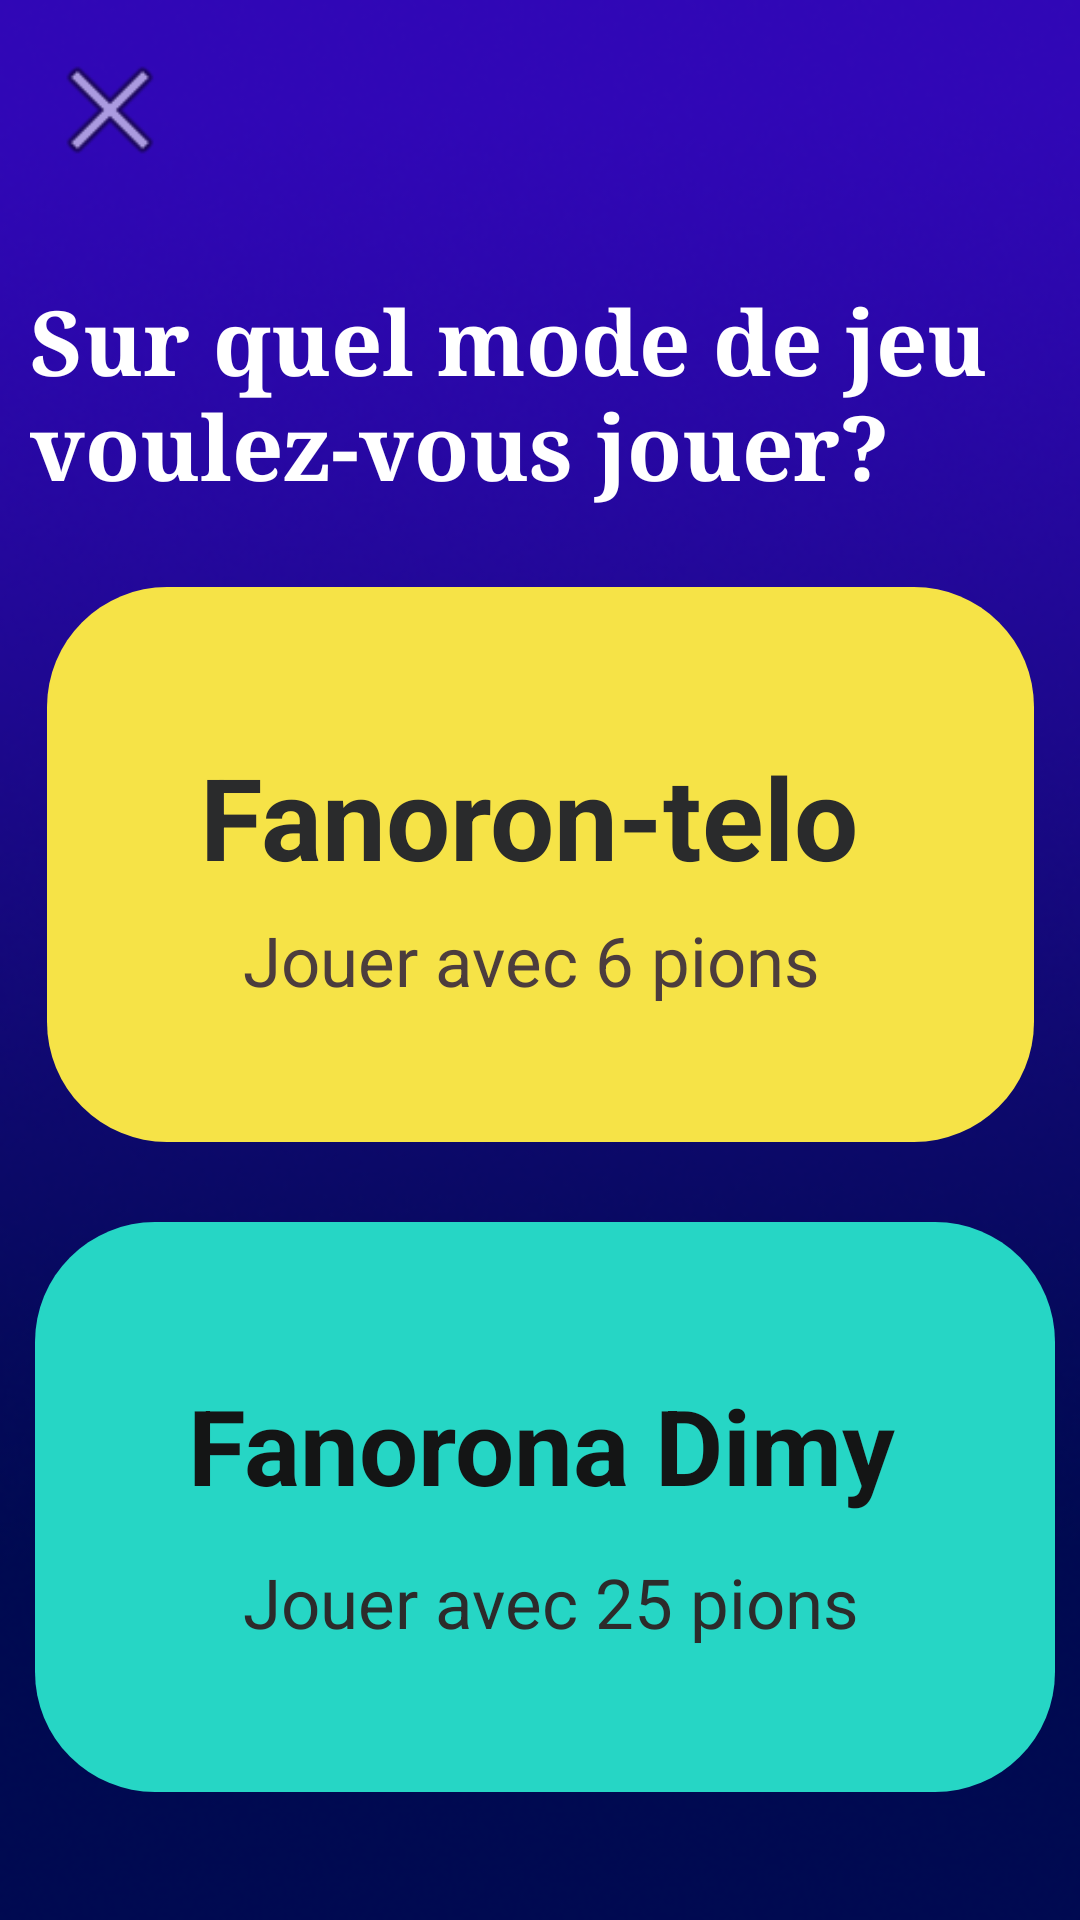

Point at icon controls on the screen. Image size 1080*1920, points as point (x, y).
close clear cancel: point (110, 110)
